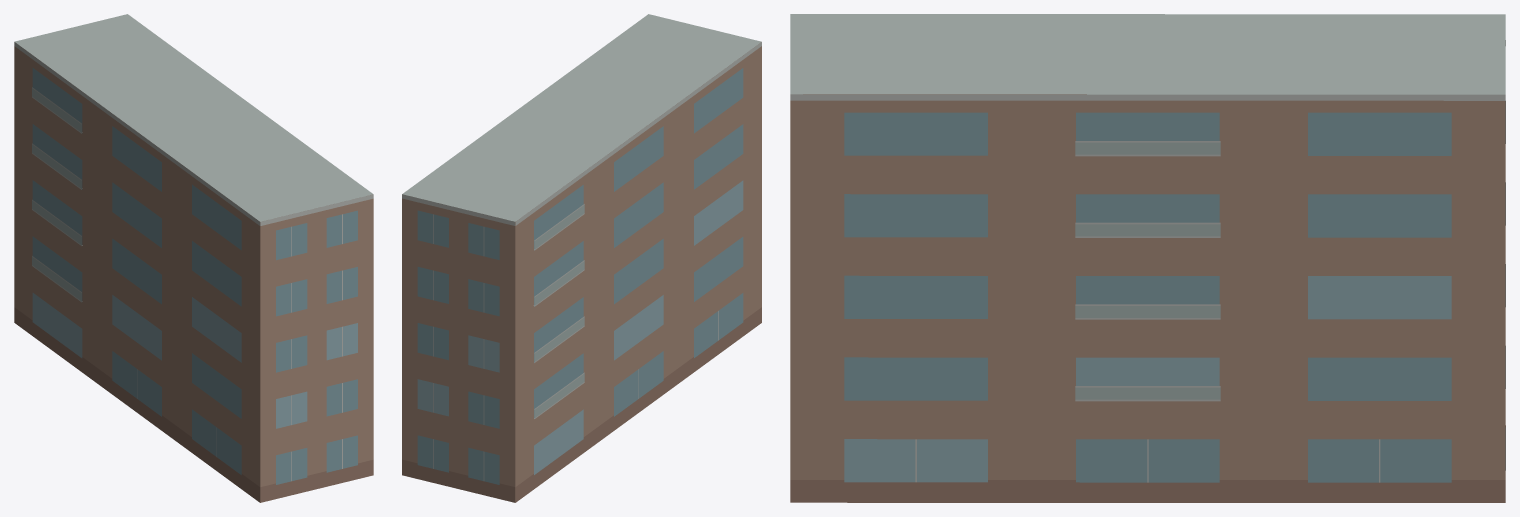
The model's file is survey-upis-32654260.glb.
3 views of the same model, side by side, from view 1: azimuth 30°, elevation 25°; view 2: azimuth 150°, elevation 25°; view 3: azimuth 270°, elevation 25° (orthographic). The views are drawn at different scales.
Visible parts, largest first — view 1: survey-upis-32654260.tmp; view 2: survey-upis-32654260.tmp; view 3: survey-upis-32654260.tmp.
Boxes of the visible parts, box(x1,y1,x2,y2) form: survey-upis-32654260.tmp: box(14, 14, 373, 502); survey-upis-32654260.tmp: box(402, 14, 761, 502); survey-upis-32654260.tmp: box(790, 14, 1505, 502).
Bounding box in the file's own units: 6.78 × 15.88 × 25.23.
